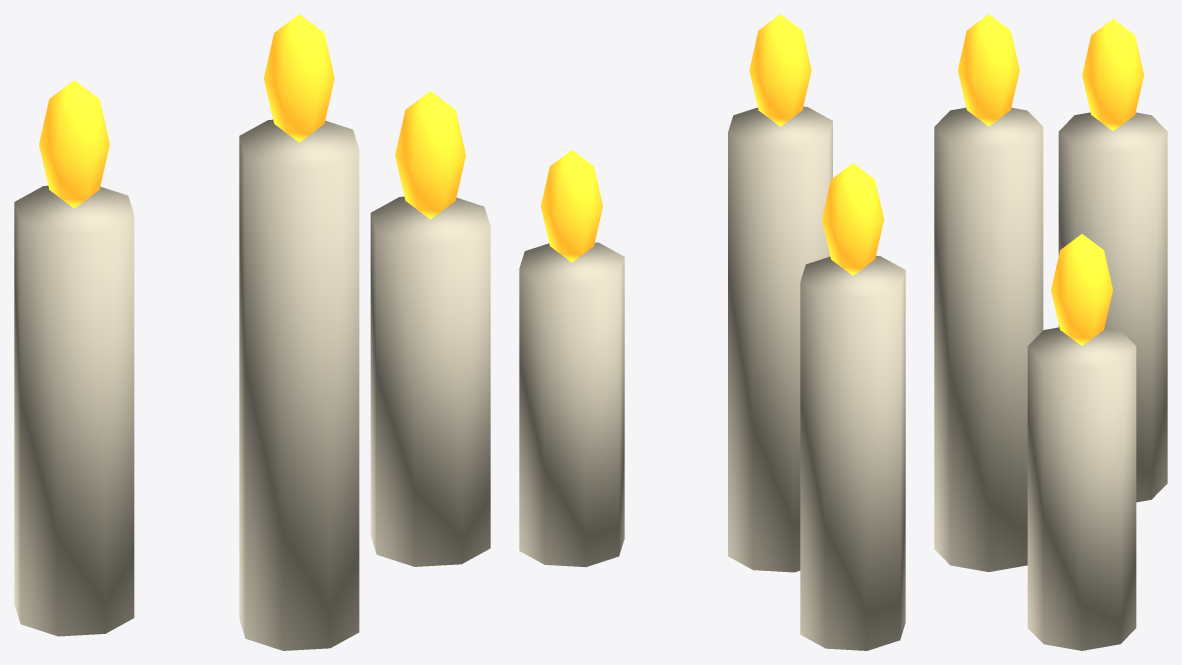
File: prop_lilin.glb
3 views of the same model, side by side, from view 1: azimuth 30°, elevation 25°; view 2: azimuth 150°, elevation 25°; view 3: azimuth 270°, elevation 25° (orthographic). The views are drawn at different scales.
Parts seen in each view (by area): view 1: lilin; view 2: lilin; view 3: lilin.
Part boxes in pixels (box(x1,y1,x2,y2)): lilin: box(14, 14, 490, 650); lilin: box(519, 14, 905, 650); lilin: box(934, 14, 1167, 650).
Bounding box in the file's own units: 0.29 × 0.38 × 0.15.
